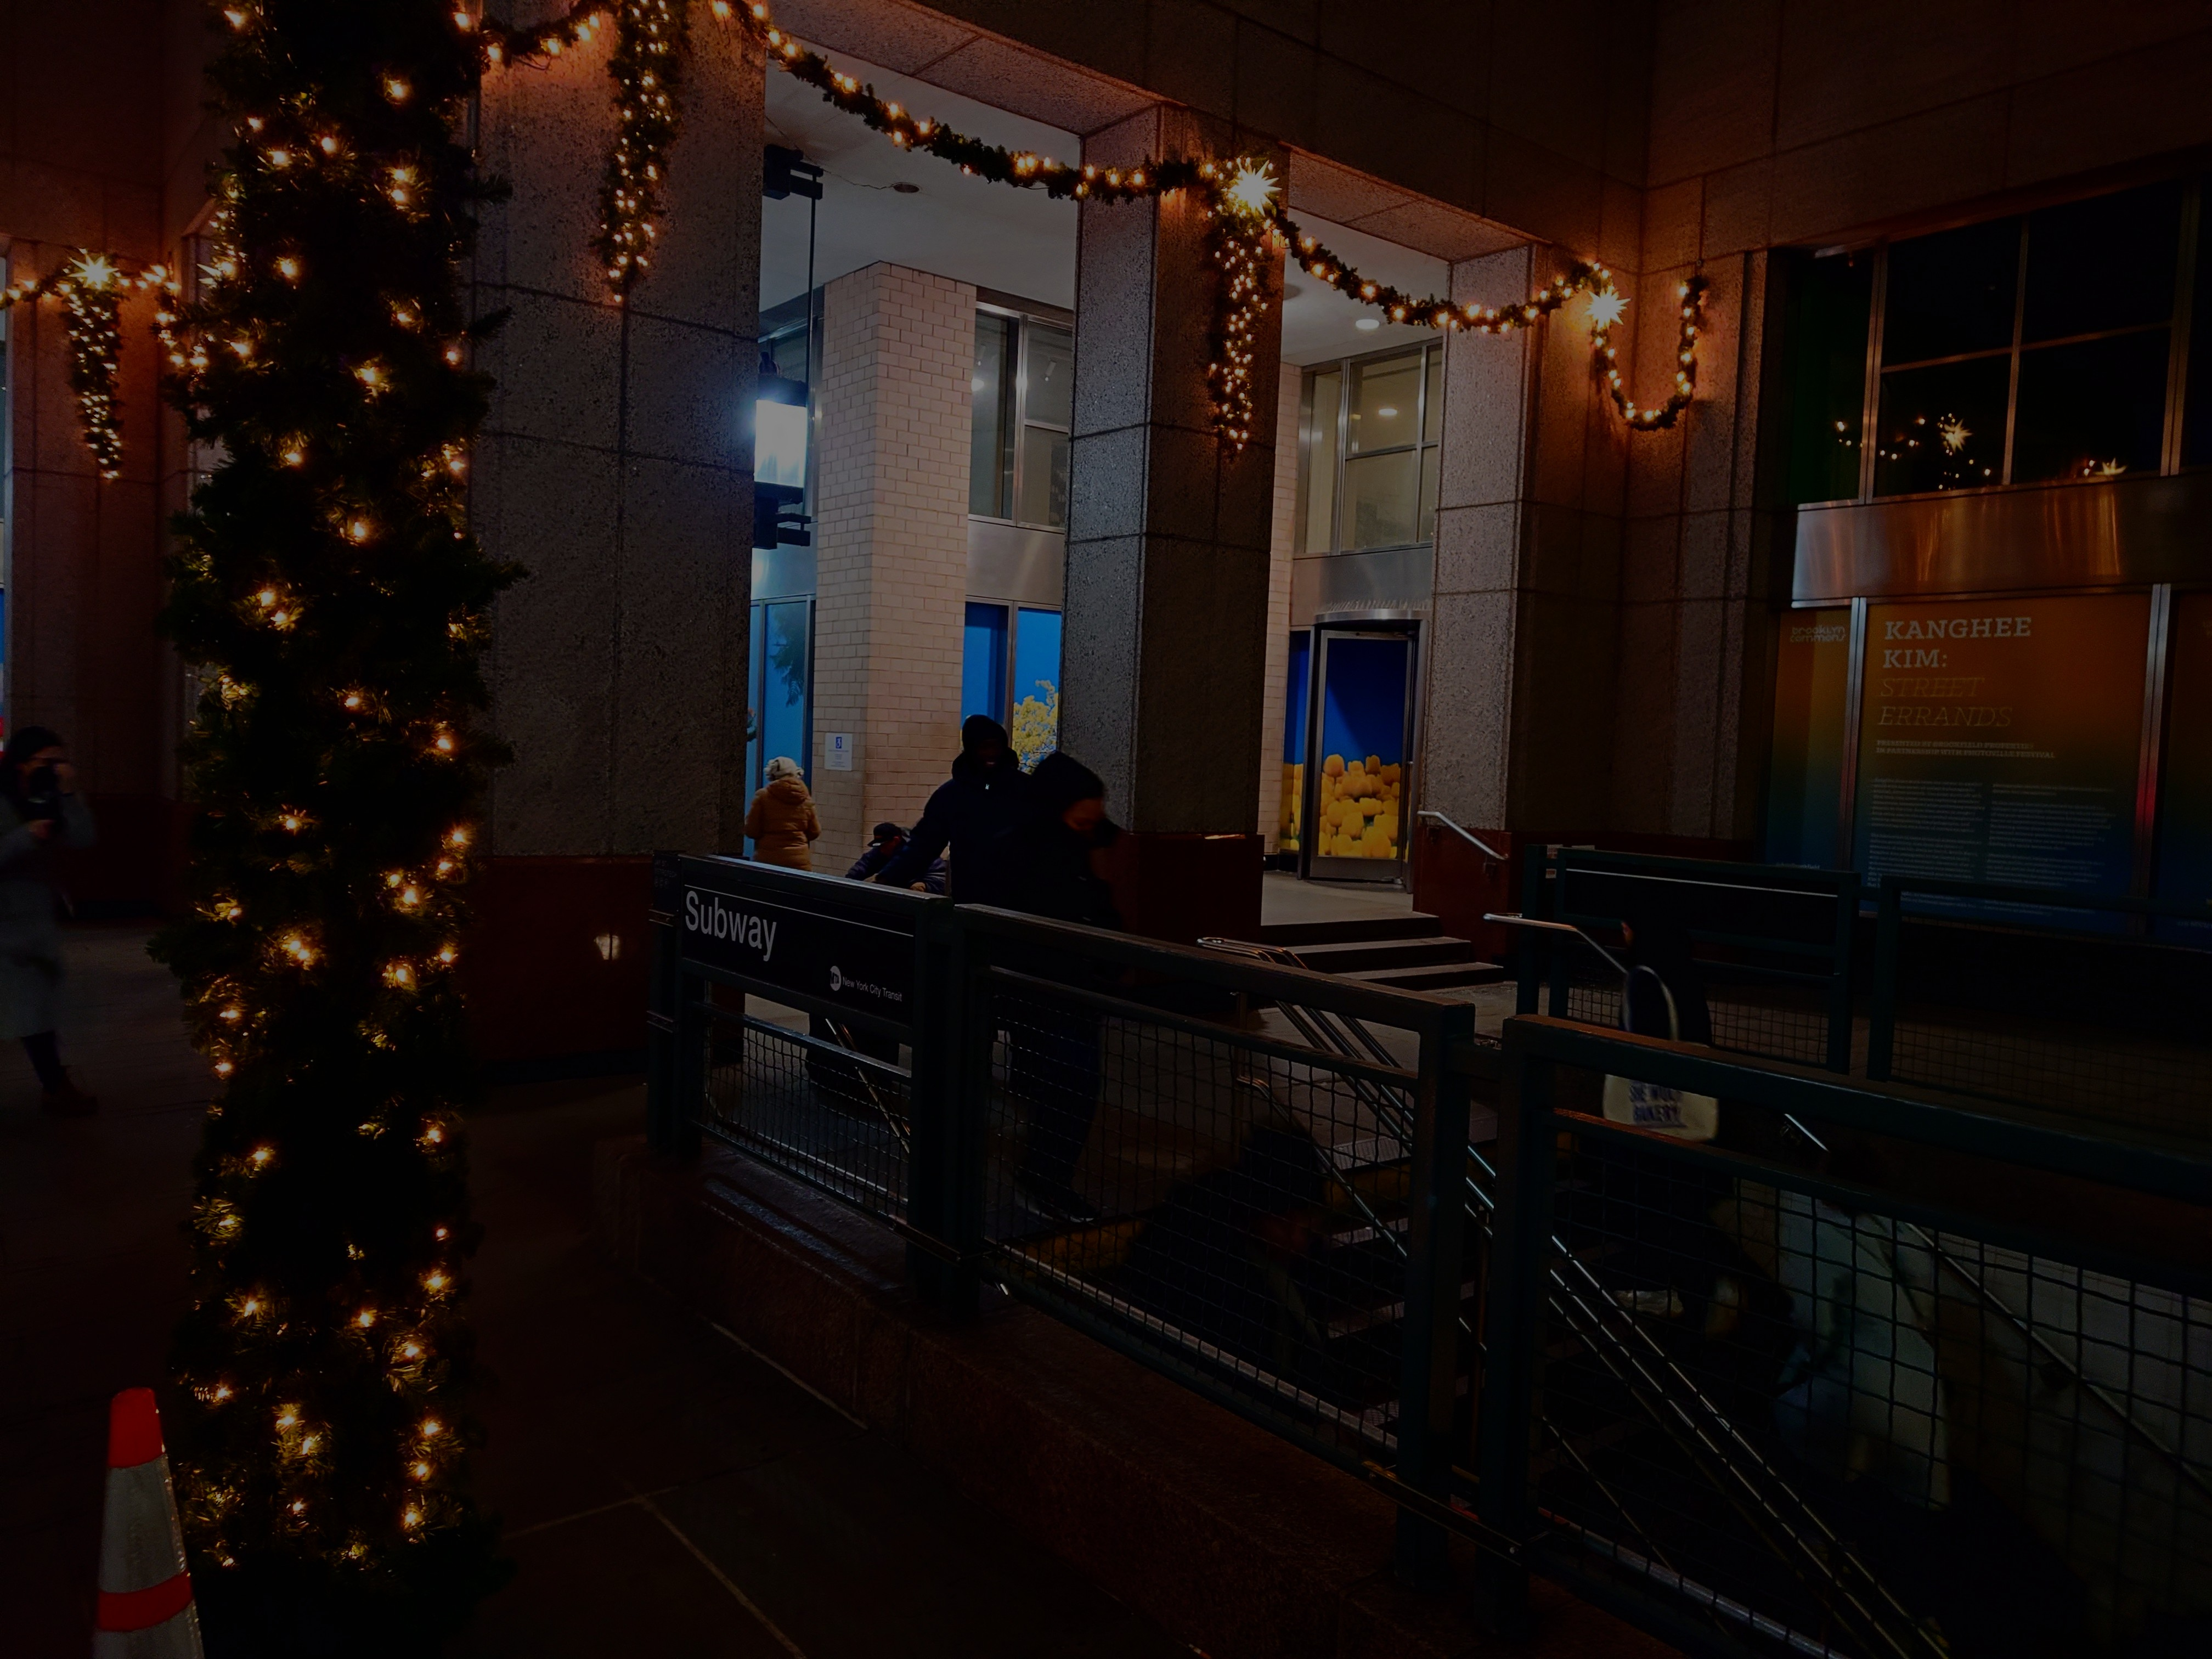person: (1008, 758, 1142, 1226), (1592, 898, 1728, 1326), (9, 721, 105, 1123), (744, 757, 829, 891)
